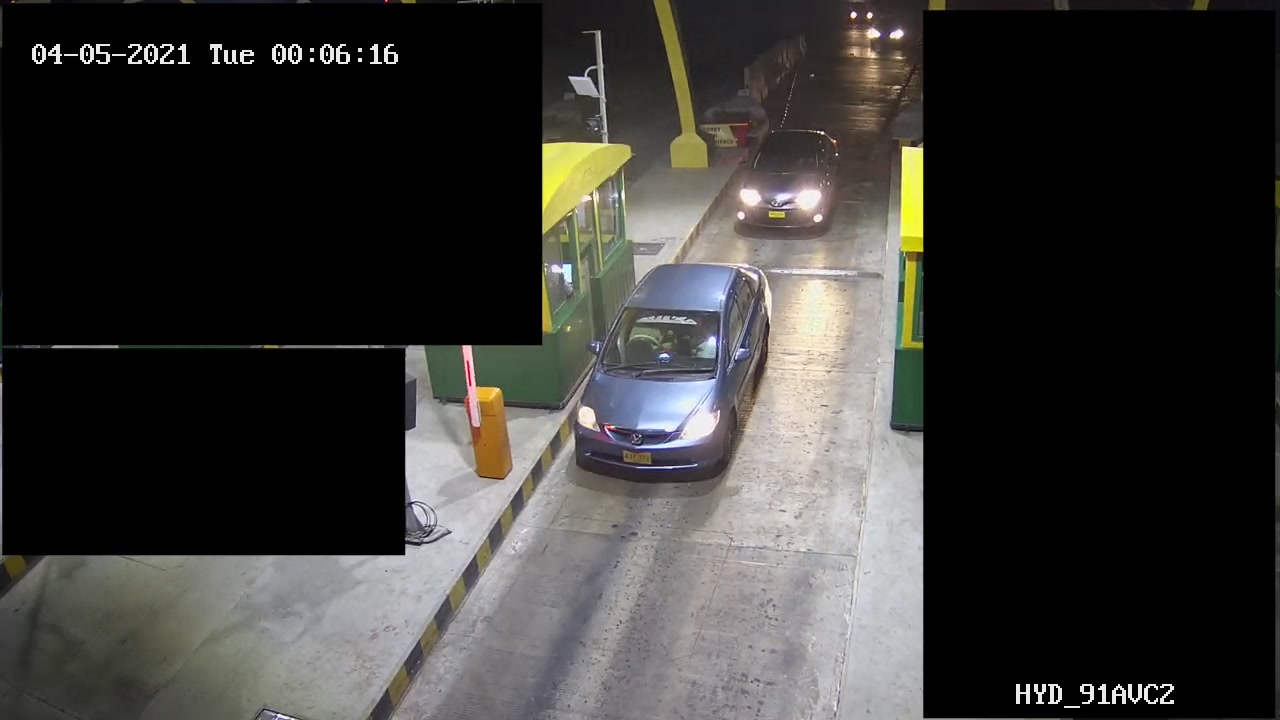F1: (563, 257, 801, 487), (721, 117, 853, 238)
